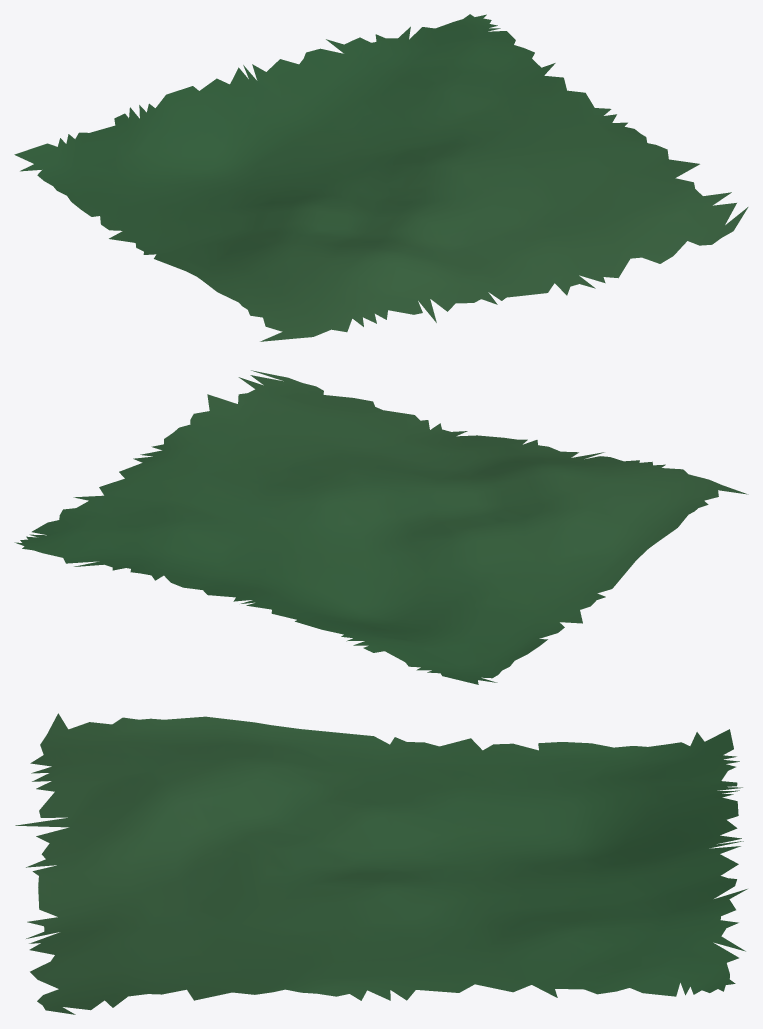
Rendered from payo_land_x1_y7_lod1.glb.
3 views of the same model, one above another, from view 1: azimuth 30°, elevation 25°; view 2: azimuth 150°, elevation 25°; view 3: azimuth 270°, elevation 25° (orthographic). The views are drawn at different scales.
Parts seen in each view (by area): view 1: payo_land_x1_y7; view 2: payo_land_x1_y7; view 3: payo_land_x1_y7.
Part boxes in pixels (x1,y1,x2,y2): payo_land_x1_y7: (14, 14, 748, 341); payo_land_x1_y7: (14, 370, 748, 684); payo_land_x1_y7: (15, 713, 747, 1014).
Size of the model in its own units: 276 by 25.06 by 273.
